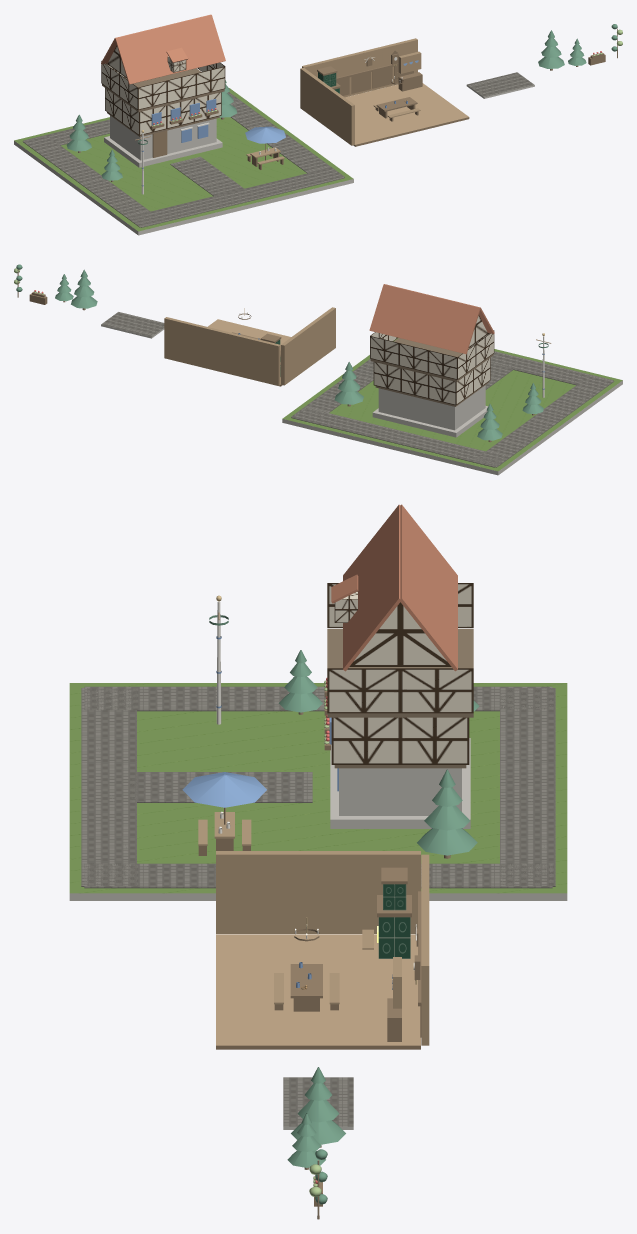
File: kit-43-diorama-jerman.glb
3 views of the same model, one above another, from view 1: azimuth 30°, elevation 25°; view 2: azimuth 150°, elevation 25°; view 3: azimuth 270°, elevation 25° (orthographic). The views are drawn at different scales.
Visible parts, largest first — view 1: JermanDio_Eksterior, JermanDio_InteriorLengkap, JermanDio_TanamanKhas, JermanDio_JalanGranit; view 2: JermanDio_Eksterior, JermanDio_InteriorLengkap, JermanDio_TanamanKhas, JermanDio_JalanGranit; view 3: JermanDio_Eksterior, JermanDio_InteriorLengkap, JermanDio_TanamanKhas, JermanDio_JalanGranit.
Boxes of the visible parts, <box> form: JermanDio_Eksterior: <box>14,14,353,235</box>; JermanDio_InteriorLengkap: <box>300,38,469,146</box>; JermanDio_TanamanKhas: <box>538,24,622,70</box>; JermanDio_JalanGranit: <box>466,72,534,98</box>; JermanDio_Eksterior: <box>282,284,622,475</box>; JermanDio_InteriorLengkap: <box>164,307,335,386</box>; JermanDio_TanamanKhas: <box>14,264,97,310</box>; JermanDio_JalanGranit: <box>101,312,164,338</box>; JermanDio_Eksterior: <box>69,504,567,900</box>; JermanDio_InteriorLengkap: <box>216,851,429,1049</box>; JermanDio_TanamanKhas: <box>287,1067,345,1219</box>; JermanDio_JalanGranit: <box>283,1077,353,1129</box>.
Bounding box in the file's own units: 43.07 × 9.22 × 17.
Materials: 21 (4 with a texture image).
